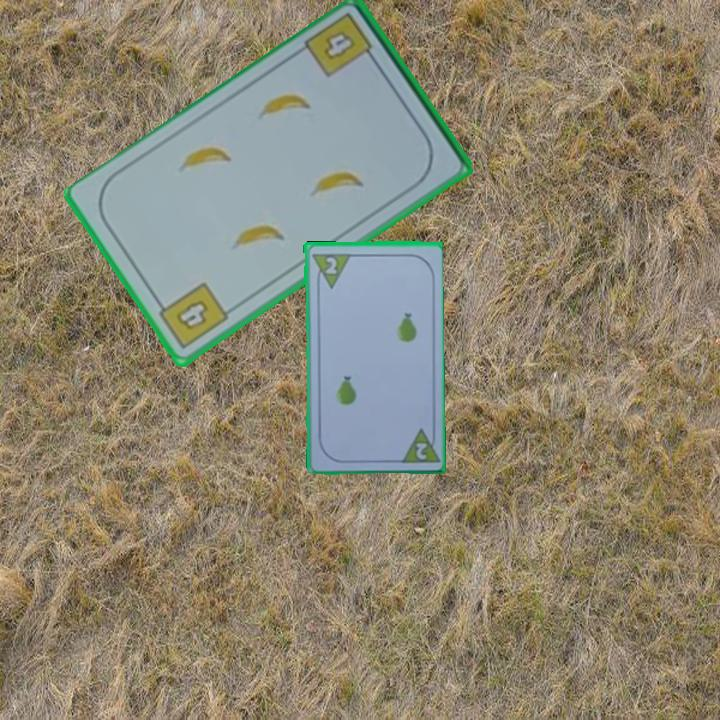2p: (308, 249, 352, 290), (412, 439, 430, 462)
4b: (152, 278, 232, 353), (301, 9, 381, 81)
